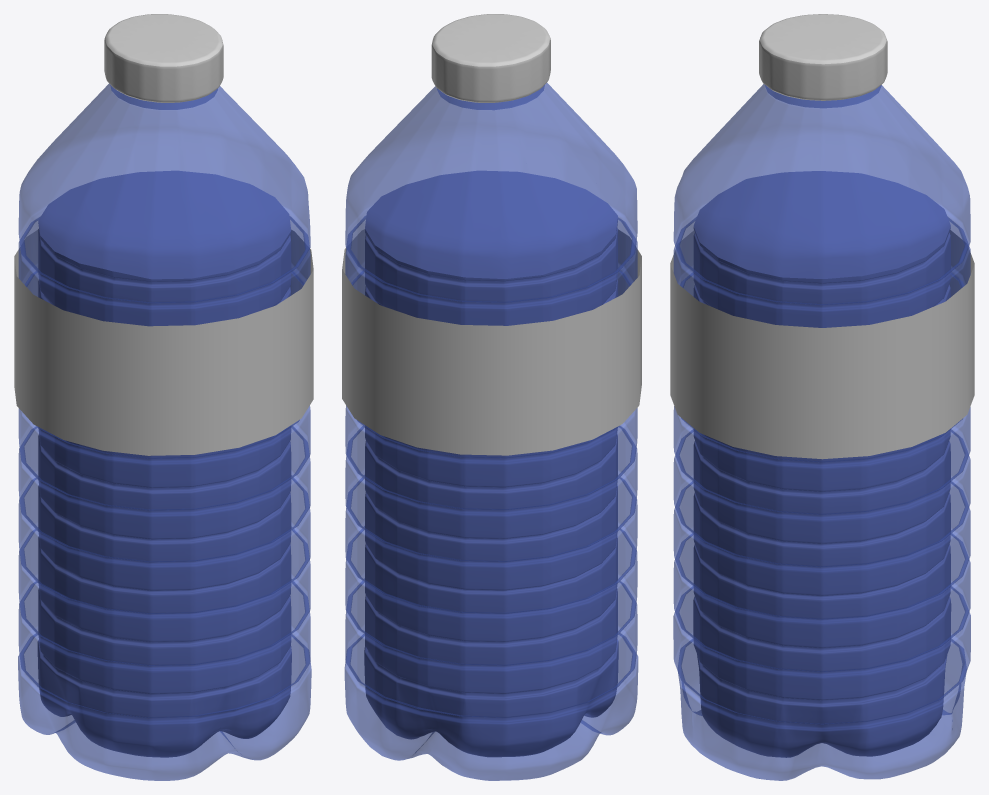
Rendered from WaterGeo.fbx.
The picture shows the model from 3 angles, left to right: view 1: azimuth 30°, elevation 25°; view 2: azimuth 150°, elevation 25°; view 3: azimuth 270°, elevation 25°; orthographic projection.
Parts seen in each view (by area): view 1: watergeo; view 2: watergeo; view 3: watergeo.
Boxes of the visible parts, bbox=[...] form: watergeo: bbox=[14, 14, 313, 780]; watergeo: bbox=[342, 14, 641, 780]; watergeo: bbox=[670, 14, 974, 780].
Size of the model in its own units: 43.21 by 109 by 43.21.
